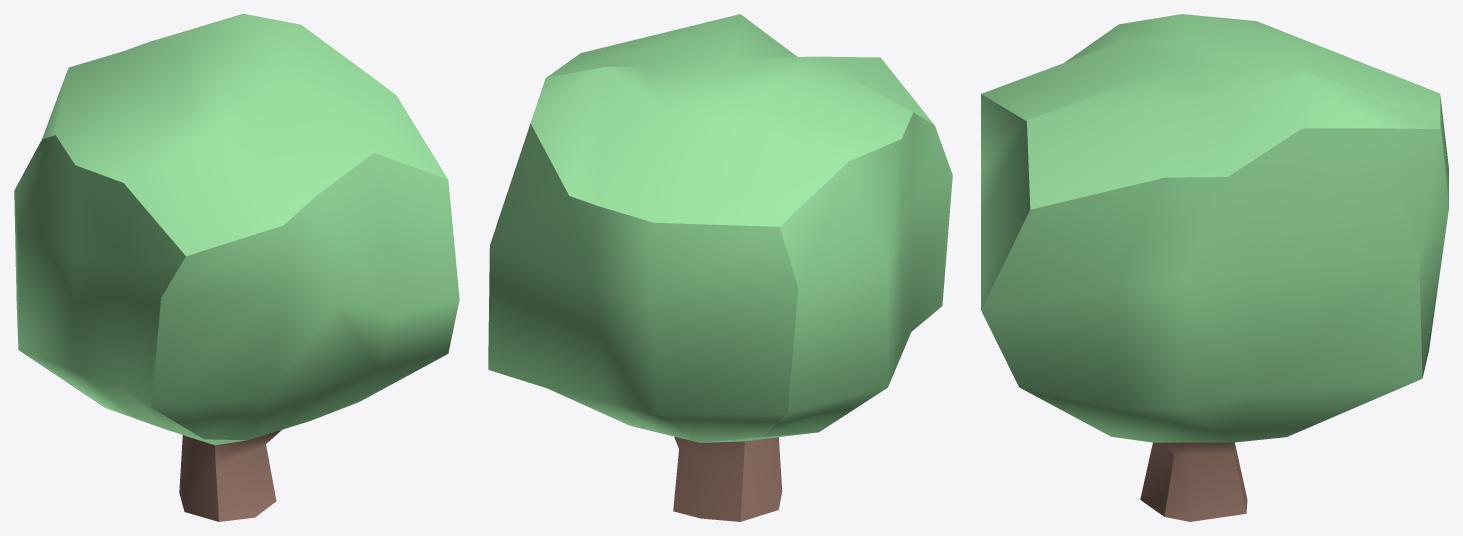
File: bush2.fbx
3 views of the same model, side by side, from view 1: azimuth 30°, elevation 25°; view 2: azimuth 150°, elevation 25°; view 3: azimuth 270°, elevation 25° (orthographic). The views are drawn at different scales.
Visible parts, largest first — view 1: bush2; view 2: bush2; view 3: bush2.
Part boxes in pixels (<box>): bush2: <box>14,14,459,521</box>; bush2: <box>488,14,952,521</box>; bush2: <box>981,14,1448,521</box>.
Size of the model in its own units: 9.51 by 10.91 by 10.03.
